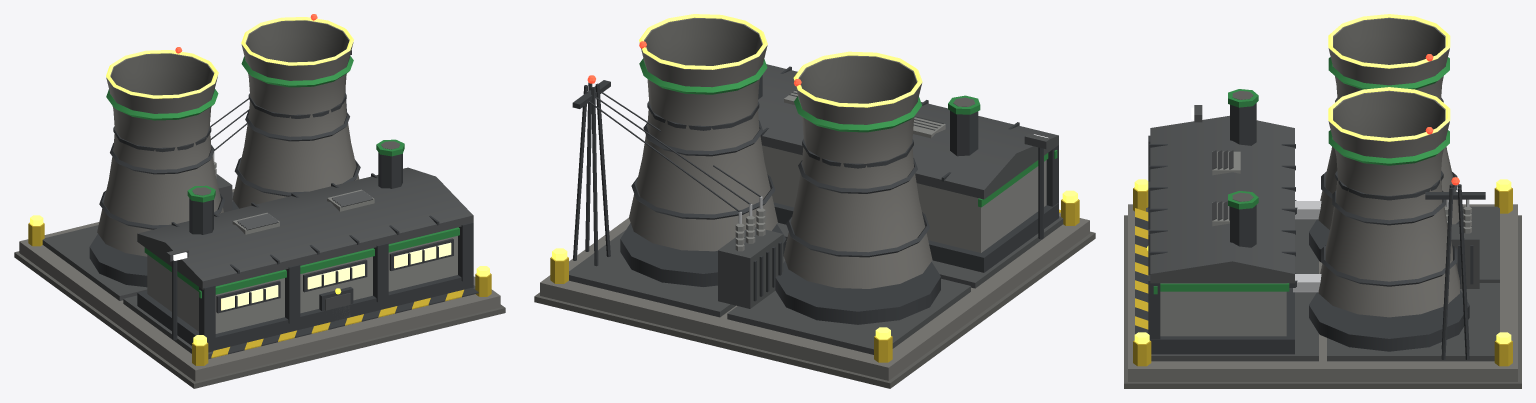
Rendered from power_lod1.glb.
The picture shows the model from 3 angles, left to right: view 1: azimuth 30°, elevation 25°; view 2: azimuth 150°, elevation 25°; view 3: azimuth 270°, elevation 25°; orthographic projection. The views are drawn at different scales.
Parts seen in each view (by area): view 1: PowerPlant_LOD1_Walls, PowerPlant_LOD1_Foundation, PowerPlant_LOD1_Details, PowerPlant_LOD1_Frame; view 2: PowerPlant_LOD1_Walls, PowerPlant_LOD1_Foundation, PowerPlant_LOD1_Details, PowerPlant_LOD1_Frame; view 3: PowerPlant_LOD1_Walls, PowerPlant_LOD1_Foundation, PowerPlant_LOD1_Details, PowerPlant_LOD1_Frame.
Part boxes in pixels (x1,y1,x2,y2): PowerPlant_LOD1_Walls: (97, 20, 473, 333); PowerPlant_LOD1_Foundation: (14, 189, 505, 388); PowerPlant_LOD1_Details: (99, 14, 439, 340); PowerPlant_LOD1_Frame: (89, 89, 473, 352); PowerPlant_LOD1_Walls: (629, 17, 1058, 288); PowerPlant_LOD1_Foundation: (534, 190, 1095, 388); PowerPlant_LOD1_Details: (572, 14, 1050, 308); PowerPlant_LOD1_Frame: (573, 82, 1058, 324); PowerPlant_LOD1_Walls: (1150, 17, 1459, 336); PowerPlant_LOD1_Foundation: (1124, 179, 1521, 388); PowerPlant_LOD1_Details: (1146, 14, 1485, 292); PowerPlant_LOD1_Frame: (1148, 135, 1469, 359).
Size of the model in its own units: 1.98 by 1.28 by 1.98.
